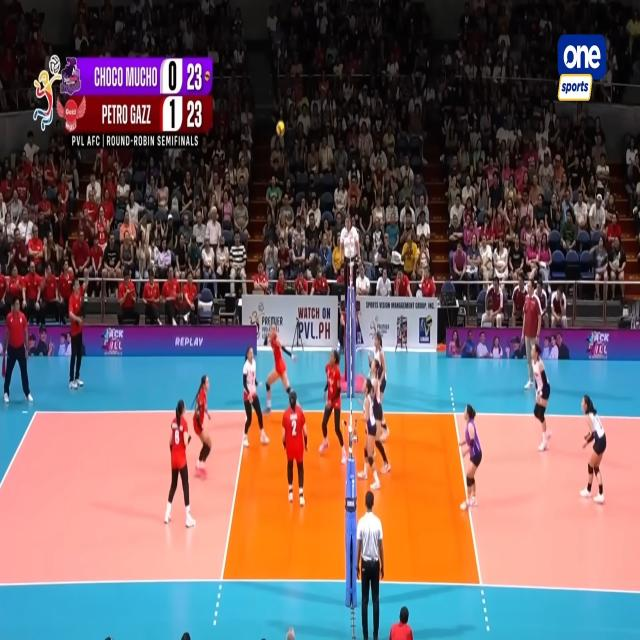Volleyball-Ball: (276, 119, 285, 138)
